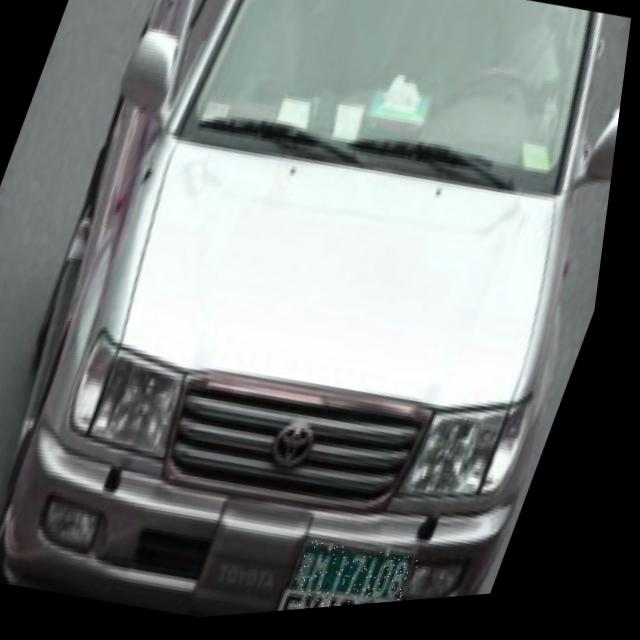license_plate: (294, 538, 437, 617)
